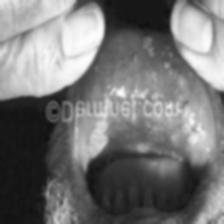Toxin: (117, 36, 196, 86)
